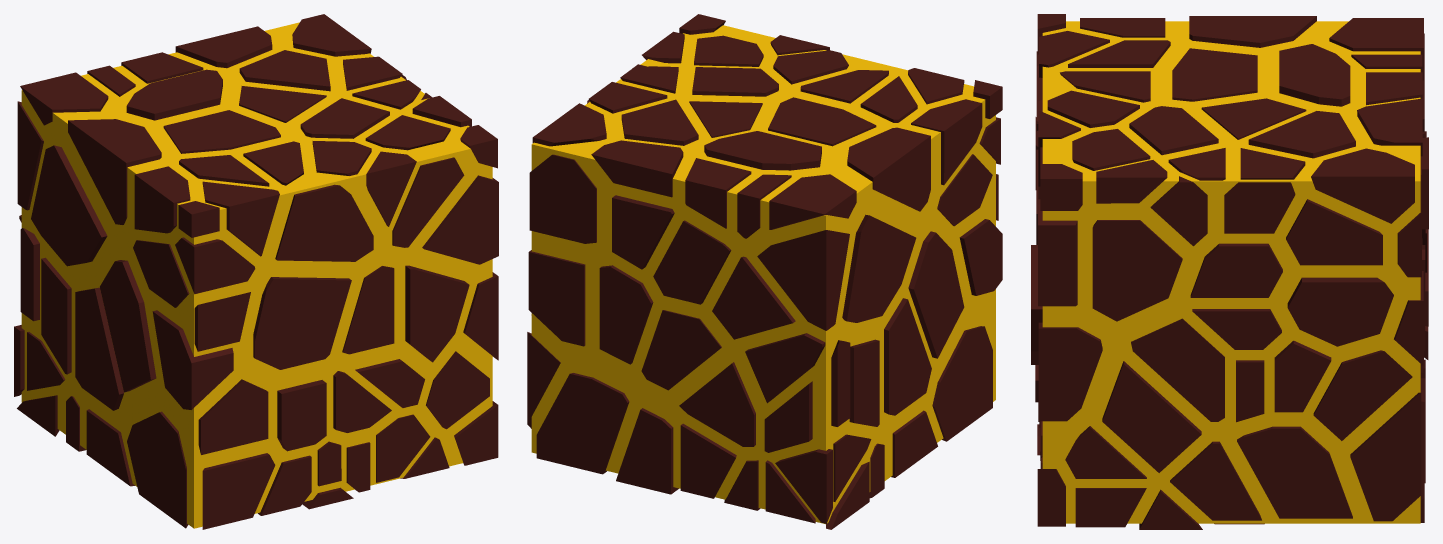
The model's file is tile_3d_magma.glb.
3 views of the same model, side by side, from view 1: azimuth 30°, elevation 25°; view 2: azimuth 150°, elevation 25°; view 3: azimuth 270°, elevation 25° (orthographic). The views are drawn at different scales.
Visible parts, largest first — view 1: cube_core, cube_core_cell.066, cube_core_cell.030, cube_core_cell.036, cube_core_cell.046, cube_core_cell.031, cube_core_cell.035, cube_core_cell.092, cube_core_cell.095, cube_core_cell.013, cube_core_cell.052, cube_core_cell.010 (+48 smaller); view 2: cube_core, cube_core_cell.058, cube_core_cell.059, cube_core_cell.036, cube_core_cell.056, cube_core_cell.046, cube_core_cell.031, cube_core_cell.005, cube_core_cell.035, cube_core_cell.068, cube_core_cell.013, cube_core_cell.050 (+43 smaller); view 3: cube_core, cube_core_cell.034, cube_core_cell.016, cube_core_cell.006, cube_core_cell.039, cube_core_cell.084, cube_core_cell.098, cube_core_cell.078, cube_core_cell.055, cube_core_cell.018, cube_core_cell.073, cube_core_cell.057 (+38 smaller).
Part boxes in pixels (left/top/right/bottom): cube_core: left=21, top=22, right=492, bottom=528; cube_core_cell.066: left=253, top=277, right=351, bottom=369; cube_core_cell.030: left=275, top=184, right=373, bottom=261; cube_core_cell.036: left=31, top=145, right=107, bottom=266; cube_core_cell.046: left=68, top=119, right=161, bottom=224; cube_core_cell.031: left=127, top=411, right=188, bottom=528; cube_core_cell.035: left=100, top=260, right=156, bottom=392; cube_core_cell.092: left=405, top=265, right=469, bottom=362; cube_core_cell.095: left=422, top=175, right=498, bottom=264; cube_core_cell.013: left=75, top=287, right=123, bottom=410; cube_core_cell.052: left=152, top=310, right=233, bottom=409; cube_core_cell.010: left=202, top=453, right=275, bottom=529; cube_core: left=531, top=25, right=995, bottom=524; cube_core_cell.058: left=536, top=373, right=629, bottom=474; cube_core_cell.059: left=757, top=230, right=849, bottom=330; cube_core_cell.036: left=842, top=214, right=916, bottom=322; cube_core_cell.056: left=529, top=154, right=596, bottom=243; cube_core_cell.046: left=847, top=127, right=930, bottom=211; cube_core_cell.031: left=932, top=326, right=992, bottom=441; cube_core_cell.005: left=528, top=250, right=585, bottom=346; cube_core_cell.035: left=908, top=231, right=964, bottom=358; cube_core_cell.068: left=653, top=220, right=731, bottom=304; cube_core_cell.013: left=884, top=298, right=931, bottom=415; cube_core_cell.050: left=599, top=265, right=653, bottom=364; cube_core: left=1042, top=21, right=1420, bottom=523; cube_core_cell.034: left=1237, top=426, right=1352, bottom=518; cube_core_cell.016: left=1092, top=220, right=1182, bottom=321; cube_core_cell.006: left=1350, top=392, right=1421, bottom=521; cube_core_cell.039: left=1287, top=277, right=1393, bottom=346; cube_core_cell.084: left=1102, top=361, right=1201, bottom=472; cube_core_cell.098: left=1131, top=318, right=1224, bottom=421; cube_core_cell.078: left=1311, top=148, right=1414, bottom=223; cube_core_cell.055: left=1038, top=322, right=1102, bottom=421; cube_core_cell.018: left=1313, top=350, right=1412, bottom=440; cube_core_cell.073: left=1286, top=199, right=1382, bottom=265; cube_core_cell.057: left=1190, top=243, right=1282, bottom=297.
Bounding box in the file's own units: 21.04 × 20.84 × 21.05.
